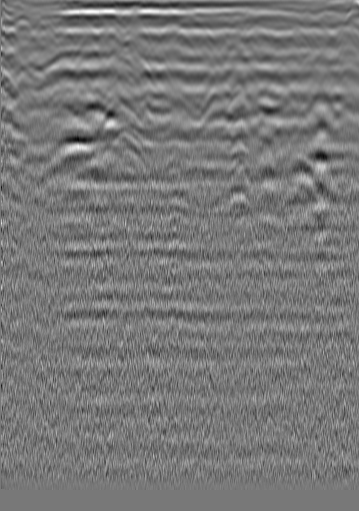가스: (105, 128, 152, 174)
상수: (12, 8, 32, 28)
오수: (313, 14, 333, 34)
우수: (162, 19, 182, 39)
